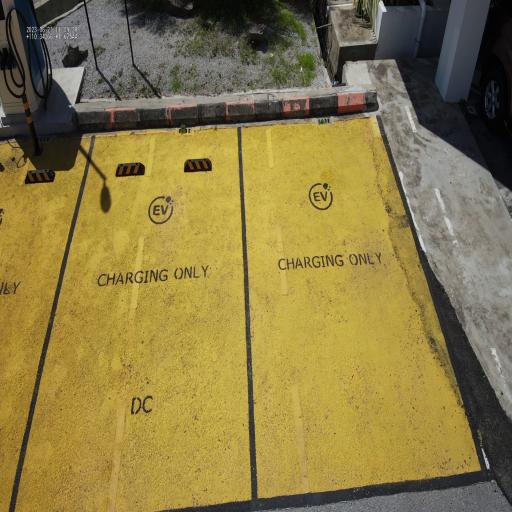Empty: (232, 104, 504, 510), (6, 103, 262, 512)
